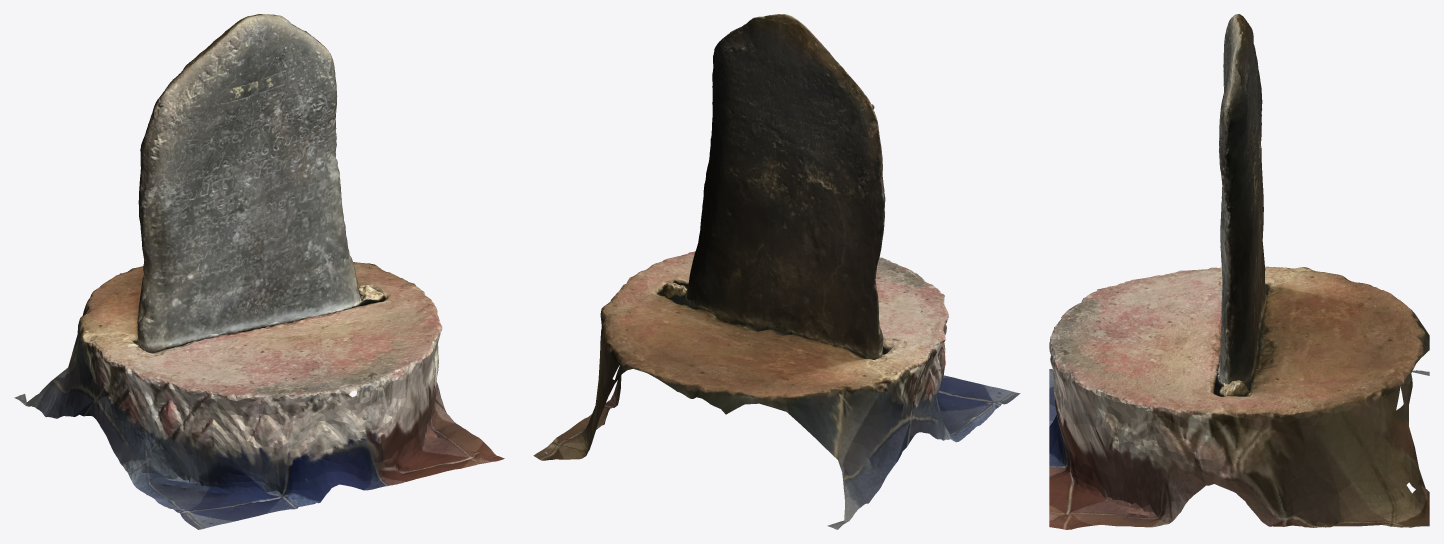
File: jaluk.glb
3 views of the same model, side by side, from view 1: azimuth 30°, elevation 25°; view 2: azimuth 150°, elevation 25°; view 3: azimuth 270°, elevation 25° (orthographic). The views are drawn at different scales.
Size of the model in its own units: 0.8054 by 1.06 by 0.8381.
Materials: 1 (1 with a texture image).
